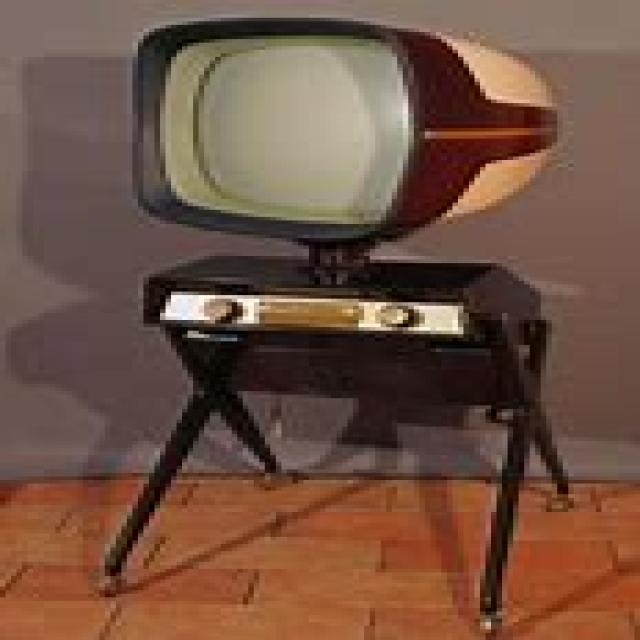tv: (127, 14, 557, 288)
